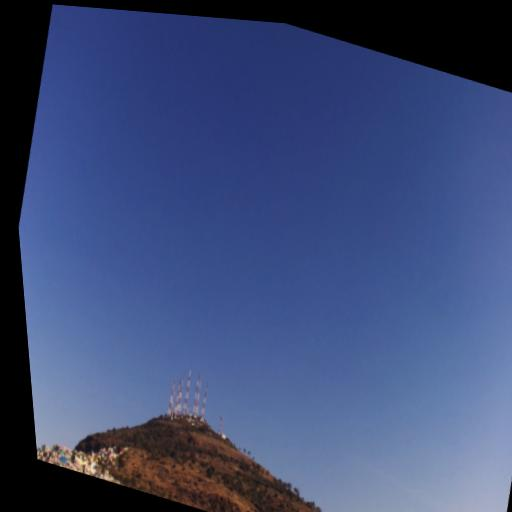drones: (232, 465, 239, 473)
